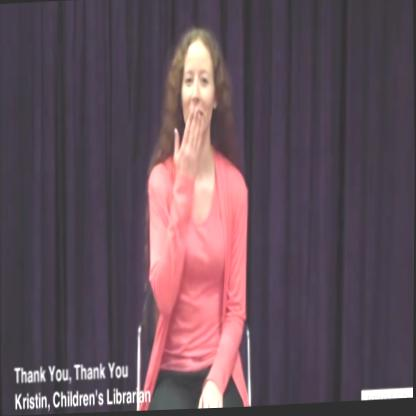ThankYou: (152, 15, 241, 230)
